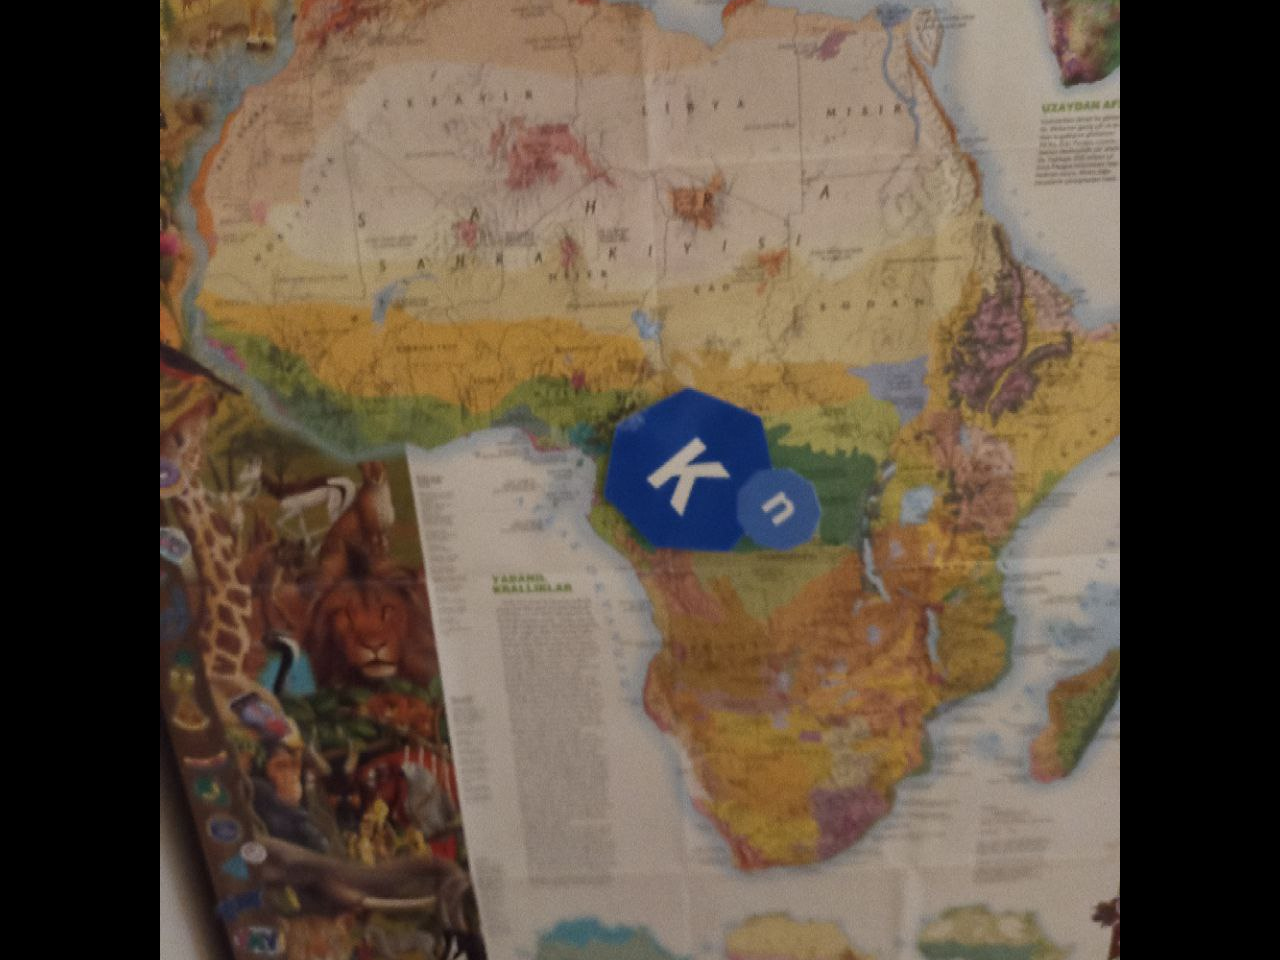knative: (609, 387, 824, 555)
